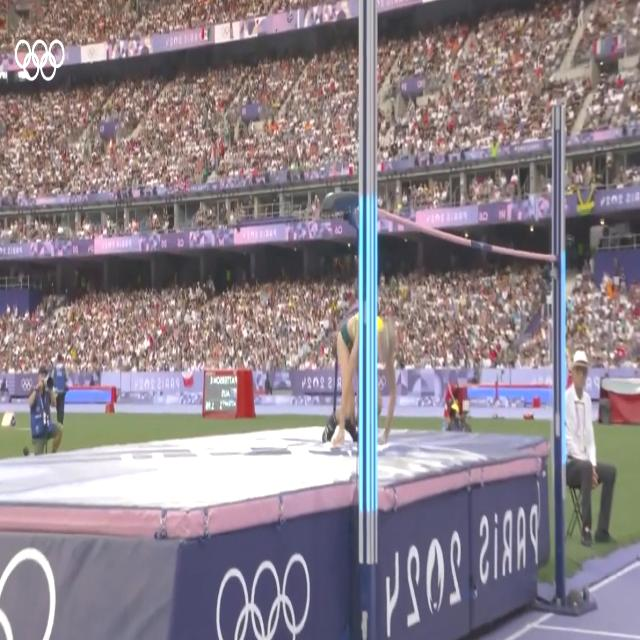land: (325, 316, 397, 452)
